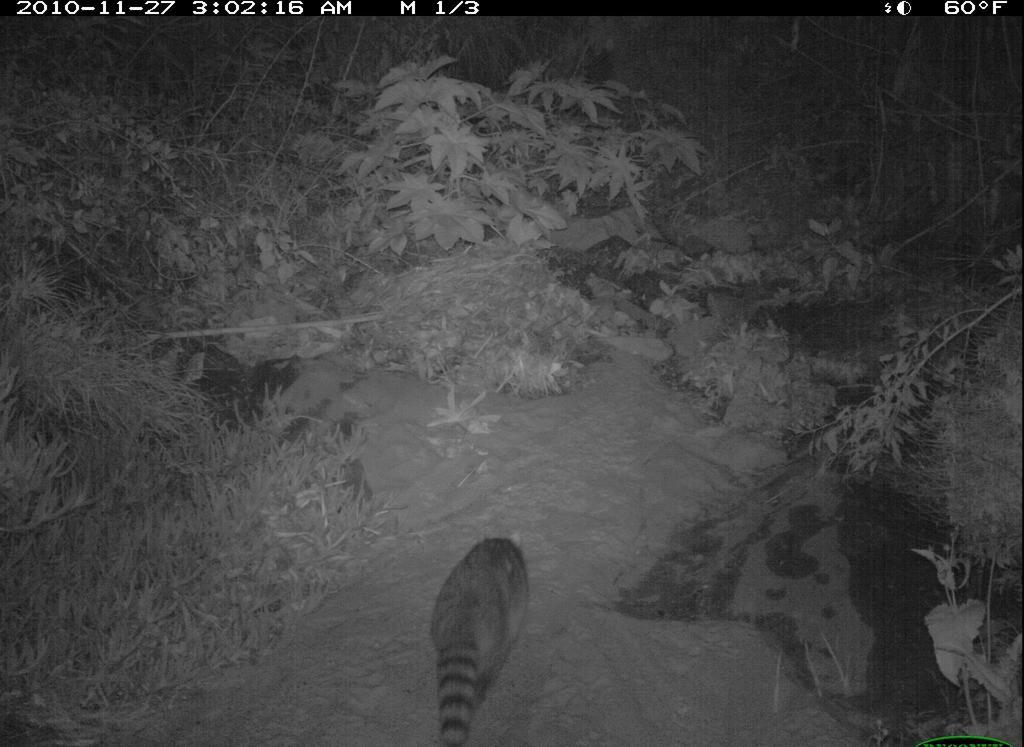raccoon: (400, 501, 552, 747)
